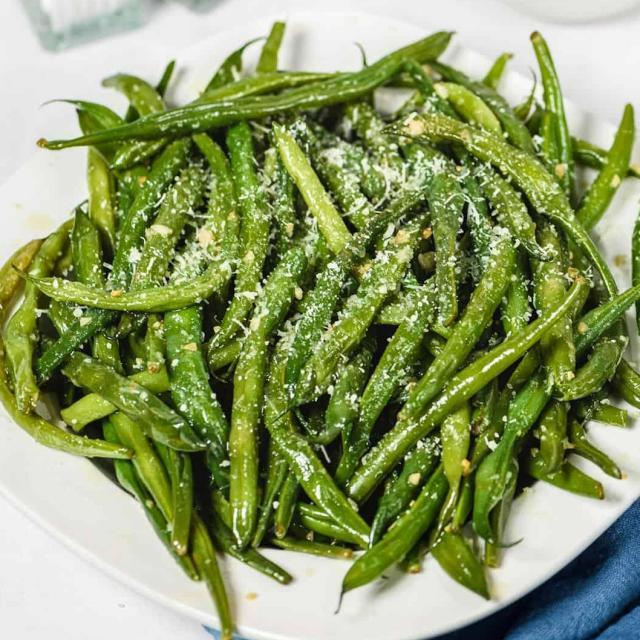Beans: (0, 26, 639, 624)
